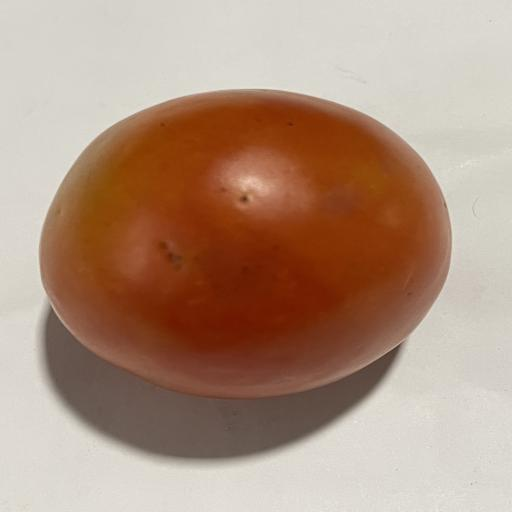ripe: (40, 90, 451, 398)
